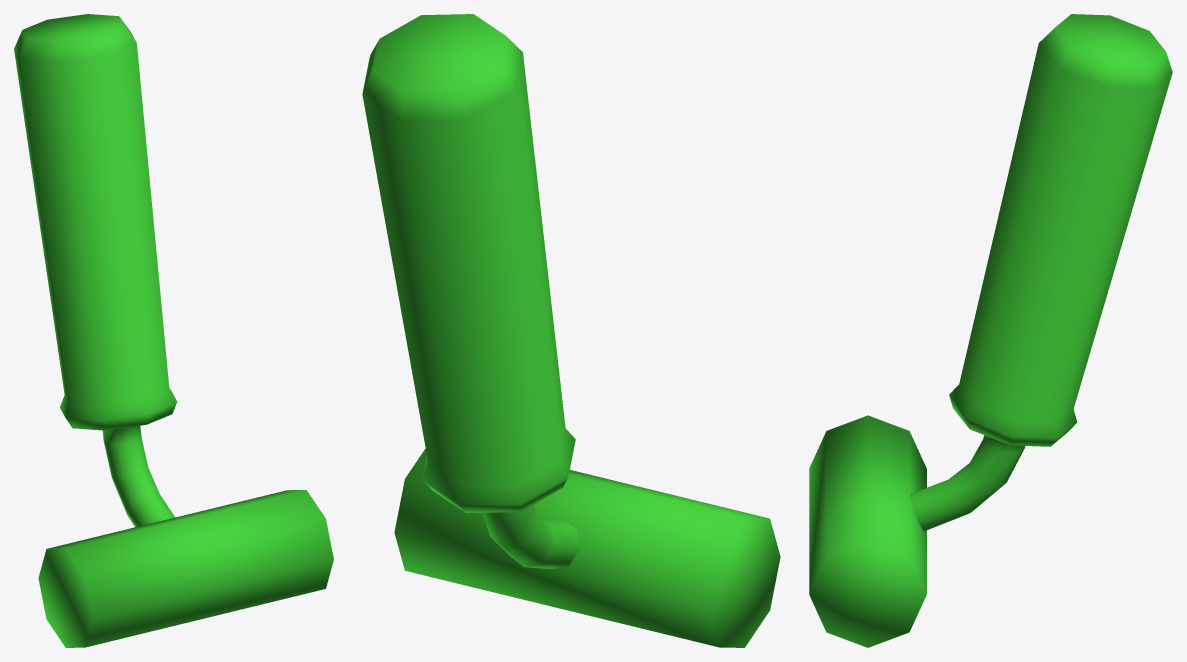
The model's file is VMP_MOD_Soft_serve_machine_01_lever_01.fbx.
The picture shows the model from 3 angles, left to right: view 1: azimuth 30°, elevation 25°; view 2: azimuth 150°, elevation 25°; view 3: azimuth 270°, elevation 25°; orthographic projection. The views are drawn at different scales.
Parts seen in each view (by area): view 1: VMP_MOD_Soft_serve_machine_01_lever_01; view 2: VMP_MOD_Soft_serve_machine_01_lever_01; view 3: VMP_MOD_Soft_serve_machine_01_lever_01.
Boxes of the visible parts, x1,y1,x2,y2 form: VMP_MOD_Soft_serve_machine_01_lever_01: (14, 14, 333, 647); VMP_MOD_Soft_serve_machine_01_lever_01: (362, 14, 780, 647); VMP_MOD_Soft_serve_machine_01_lever_01: (809, 14, 1172, 647).
Size of the model in its own units: 0.0716 by 0.1476 by 0.0872.
